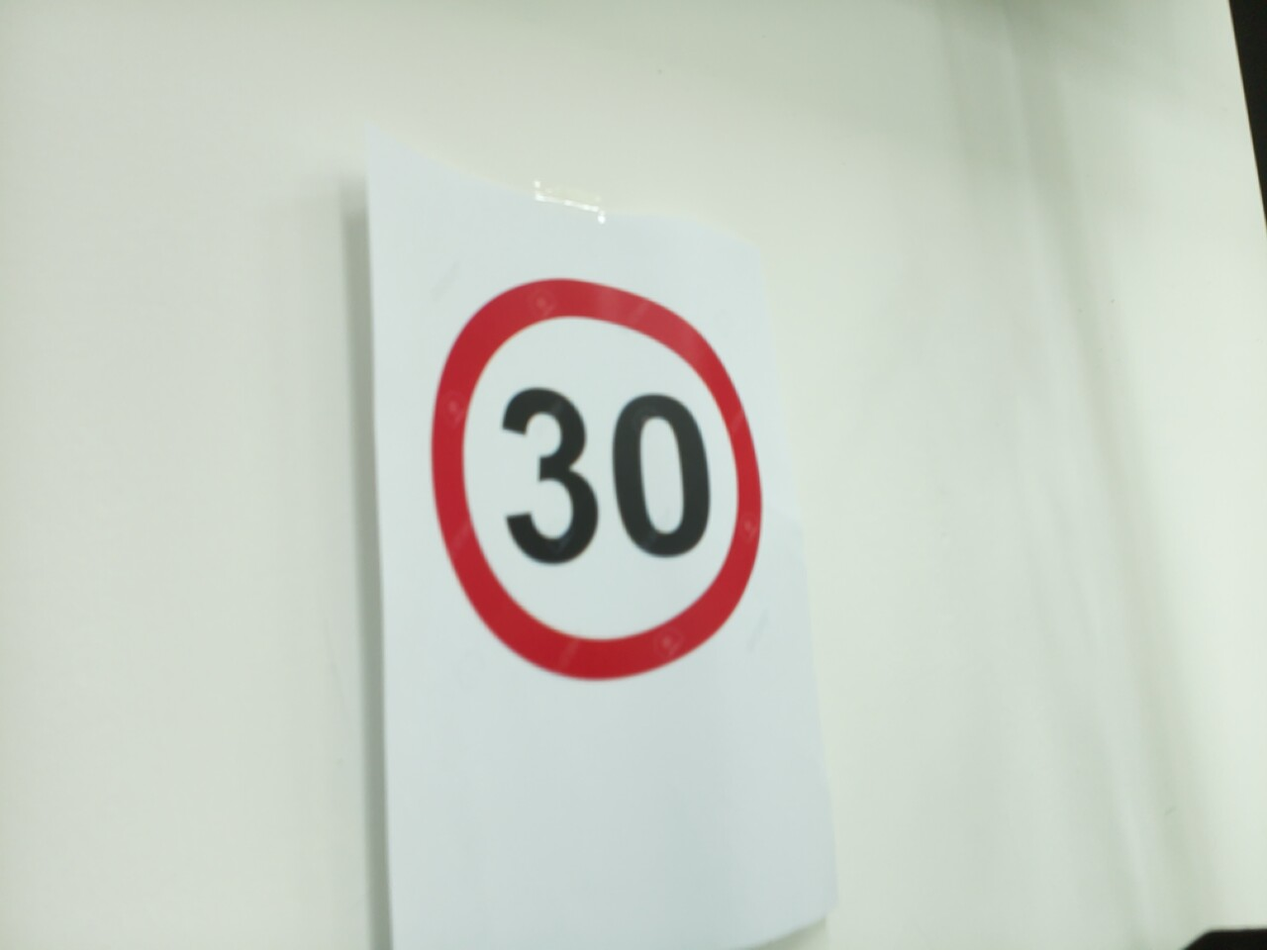speed_30: (422, 266, 772, 693)
